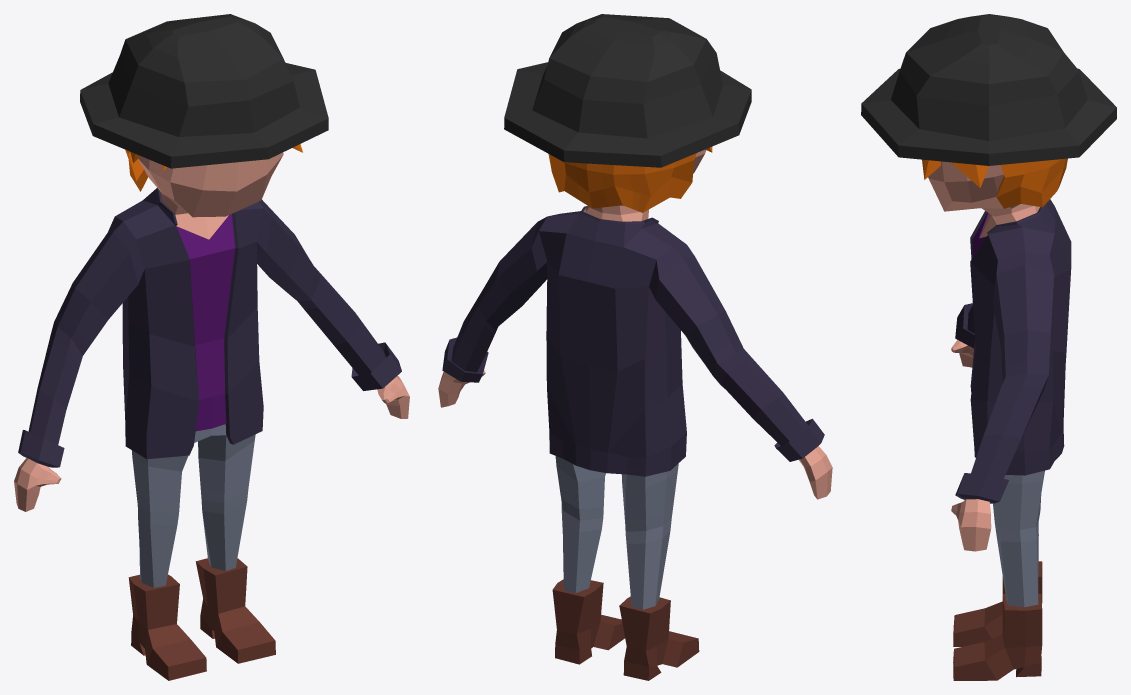
File: TutorialModel.blend.fbx
3 renders of one model, left to right at view 1: azimuth 30°, elevation 25°; view 2: azimuth 150°, elevation 25°; view 3: azimuth 270°, elevation 25°, orthographic.
Parts seen in each view (by area): view 1: Cube, Cube.001; view 2: Cube, Cube.001, Cube.002; view 3: Cube, Cube.001, Cube.002.
Part boxes in pixels (left/top/right/bottom): Cube: left=14, top=152, right=409, bottom=680; Cube.001: left=80, top=14, right=328, bottom=168; Cube: left=438, top=149, right=832, bottom=680; Cube.001: left=504, top=14, right=751, bottom=167; Cube.002: left=548, top=147, right=712, bottom=212; Cube: left=928, top=161, right=1071, bottom=680; Cube.001: left=861, top=14, right=1116, bottom=165; Cube.002: left=922, top=158, right=1067, bottom=208.
Size of the model in its own units: 964 by 1492 by 554.
